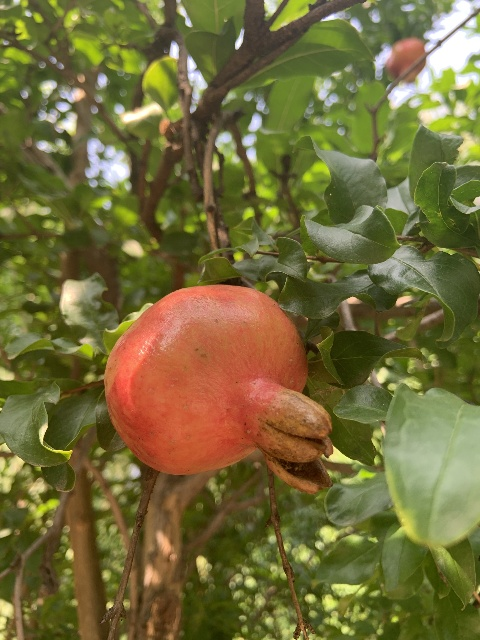ripe: (103, 283, 334, 494), (384, 37, 426, 83)
